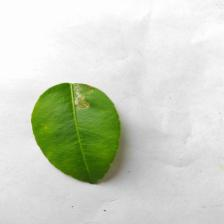greening: (28, 81, 124, 189)
